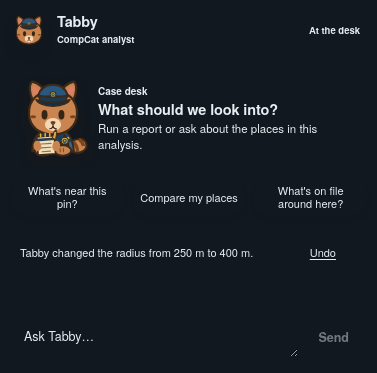
Scenario: AssistantPanel › offers a one-time undo for a Tabby filter receipt
Click the button "Undo" at (323, 253), box [310,243,336,263]
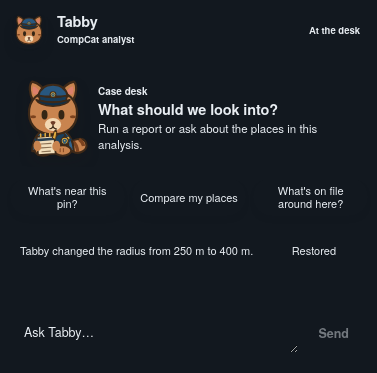
Now the button "Undo" is gone
Now the text "Restored" is shown, box [292,243,336,259]
